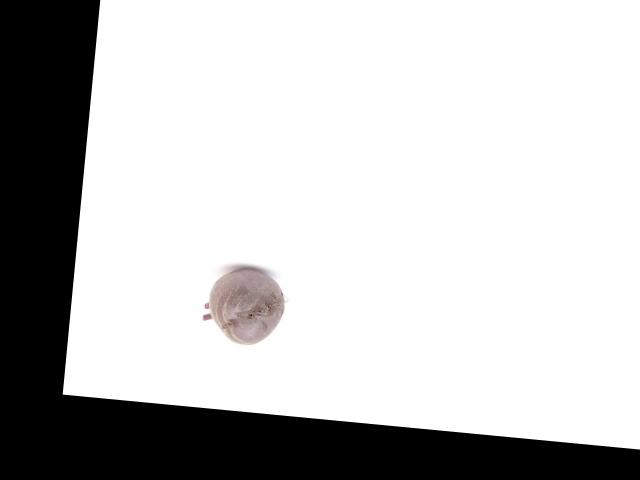beet: (201, 263, 288, 348)
